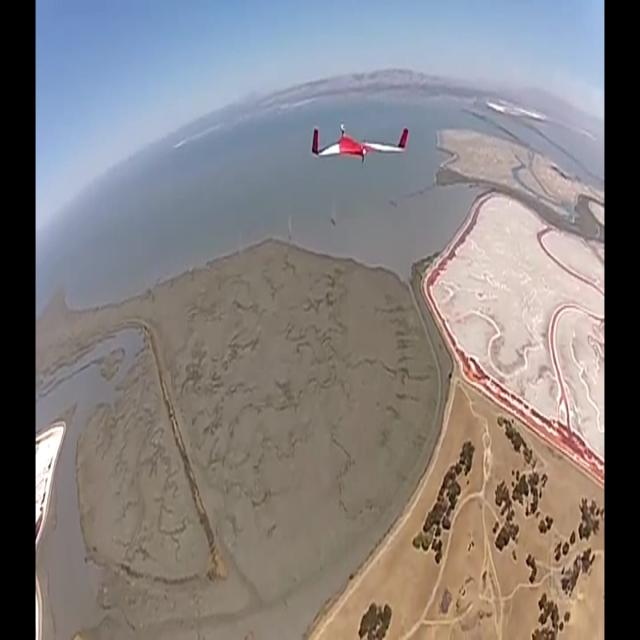iha: (342, 121, 378, 165)
